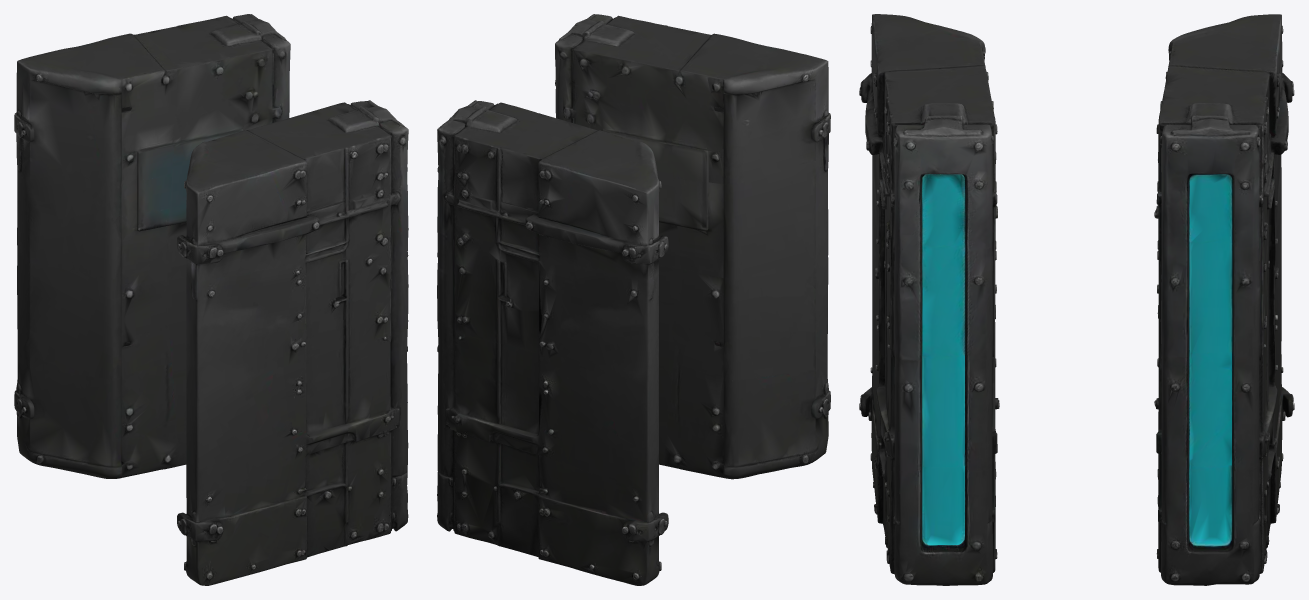
Rendered from security.glb.
3 renders of one model, left to right at view 1: azimuth 30°, elevation 25°; view 2: azimuth 150°, elevation 25°; view 3: azimuth 270°, elevation 25°, orthographic. The views are drawn at different scales.
Visible parts, largest first — view 1: tripo_node_f734669e-1094-41a4-a155-4132f90a97b4; view 2: tripo_node_f734669e-1094-41a4-a155-4132f90a97b4; view 3: tripo_node_f734669e-1094-41a4-a155-4132f90a97b4.
Boxes of the visible parts, <box> form: tripo_node_f734669e-1094-41a4-a155-4132f90a97b4: <box>14,14,408,585</box>; tripo_node_f734669e-1094-41a4-a155-4132f90a97b4: <box>437,14,830,585</box>; tripo_node_f734669e-1094-41a4-a155-4132f90a97b4: <box>859,14,1294,585</box>.
Bounding box in the file's own units: 0.5966 × 0.9999 × 0.855.
1 material, 1 textured.
